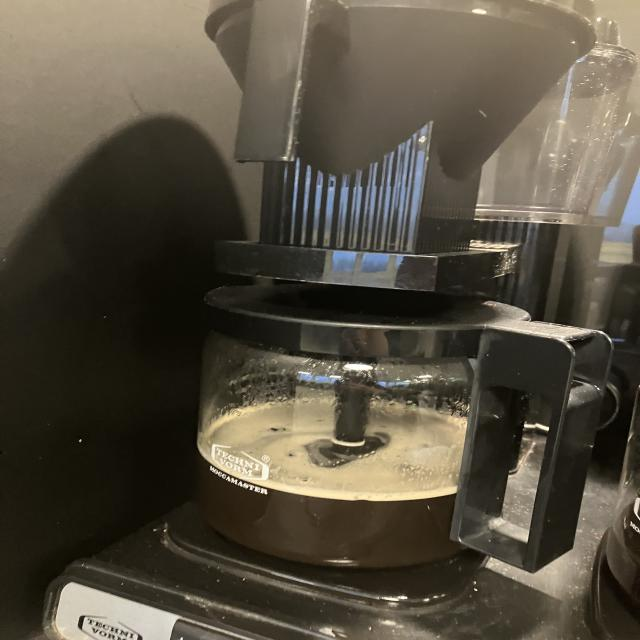coffee: (182, 262, 509, 578)
